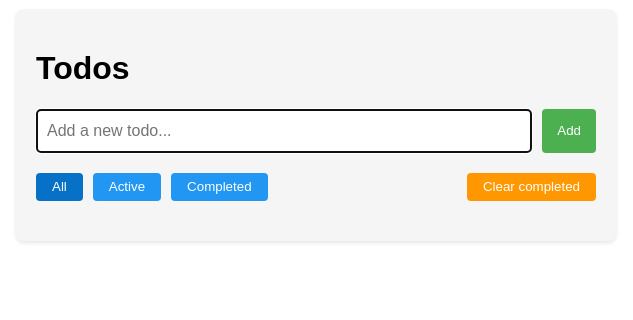
Test case: Todos App › should remove a todo item
Type "Item to remove" into the field with placeholder "Add a new todo..." at [284, 131], box [36,109,532,153]
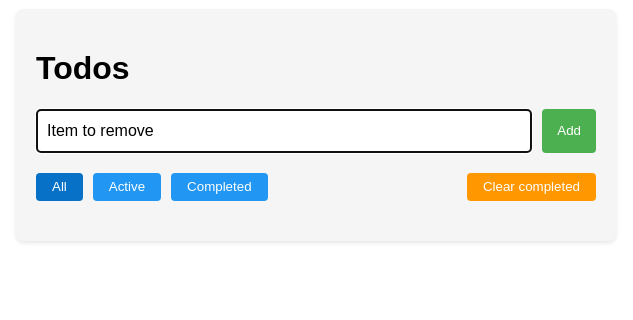
Click the button "Add" at [569, 131], box [542,109,596,153]
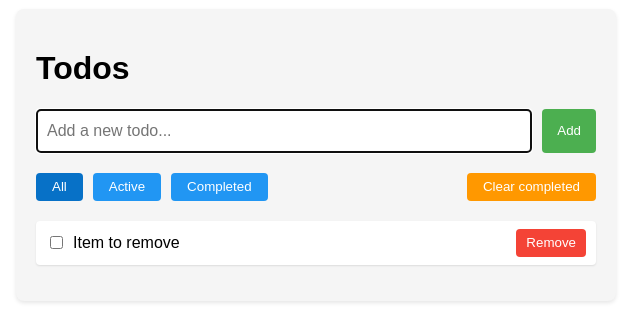
Click the button "Remove" at [551, 243], box [516,229,586,257]
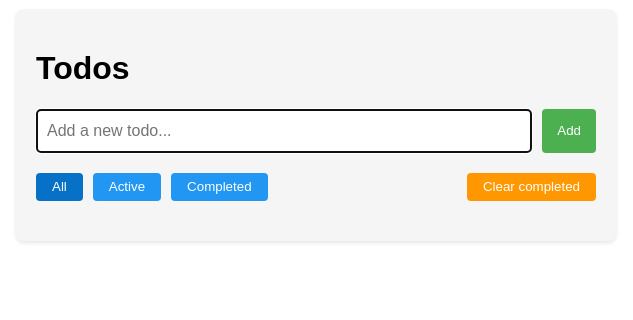
Expected: the text "Item to remove" is gone
